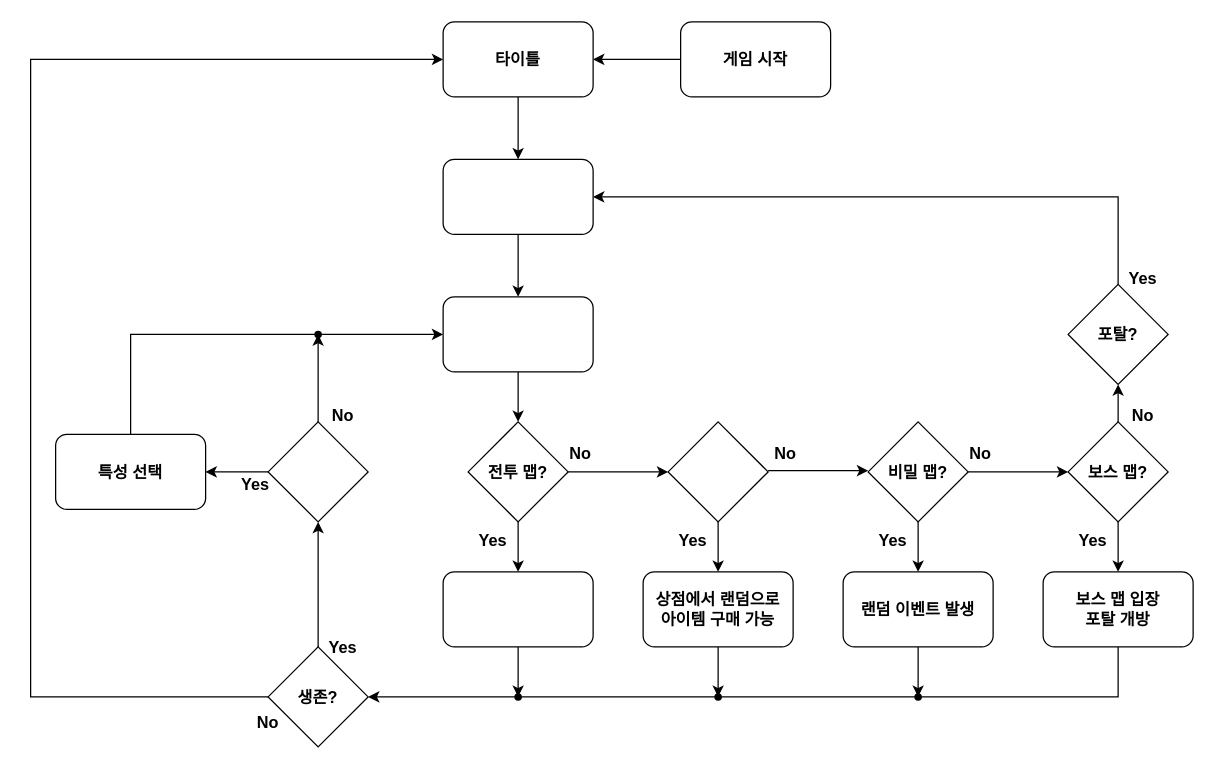
The diagram is 1215 pixels wide and 769 high, and some of its shapes have lost their labels. Here are the shapes that lost their labels. From the top down, the centre of each, then its label:
At point 517,196: "스테이지 생성".
At point 517,334: "플레이어가 맵 입장".
At point 317,471: "레벨 업?".
At point 717,471: "상점 맵?".
At point 517,609: "랜덤 전투 맵에 입장".
